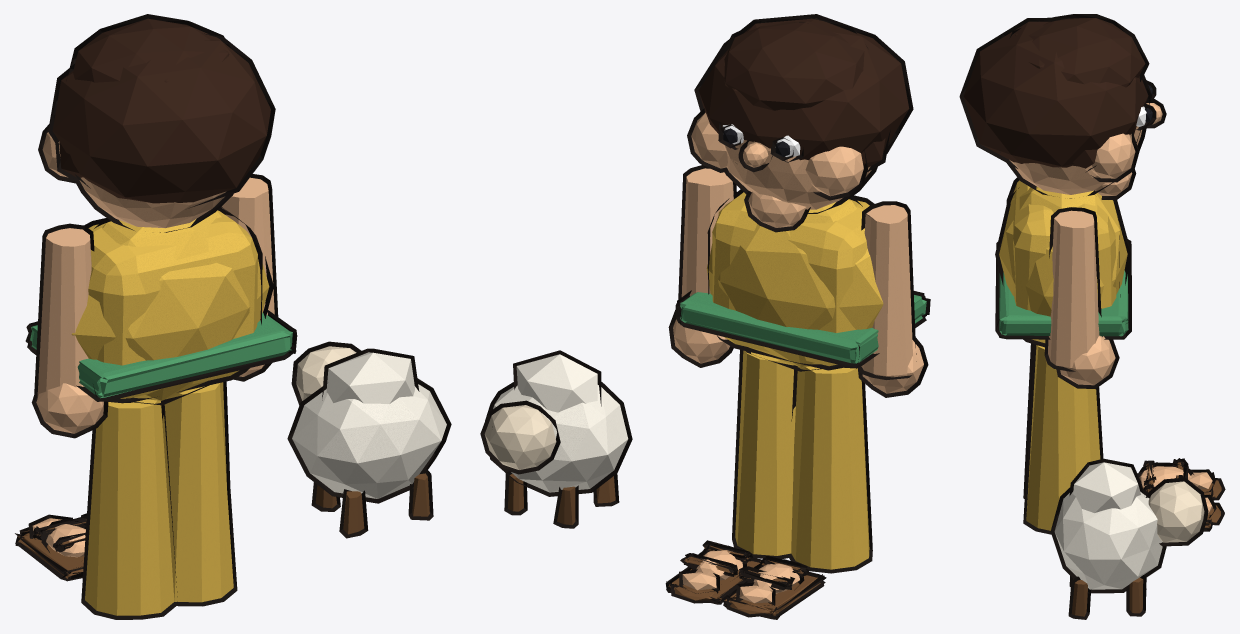
File: david_mentor_v7.glb
The picture shows the model from 3 angles, left to right: view 1: azimuth 30°, elevation 25°; view 2: azimuth 150°, elevation 25°; view 3: azimuth 270°, elevation 25°; orthographic projection. The views are drawn at different scales.
Visible parts, largest first — view 1: David_Mentor, David_Mentor_Outline; view 2: David_Mentor, David_Mentor_Outline; view 3: David_Mentor, David_Mentor_Outline.
Part boxes in pixels (bbox=[...]): David_Mentor: bbox=[17, 18, 446, 615]; David_Mentor_Outline: bbox=[15, 14, 451, 619]; David_Mentor: bbox=[484, 18, 926, 615]; David_Mentor_Outline: bbox=[480, 14, 930, 619]; David_Mentor: bbox=[963, 18, 1221, 616]; David_Mentor_Outline: bbox=[959, 14, 1225, 619].
Size of the model in its own units: 0.8493 by 1.07 by 0.5283.
10 materials, 10 textured.
